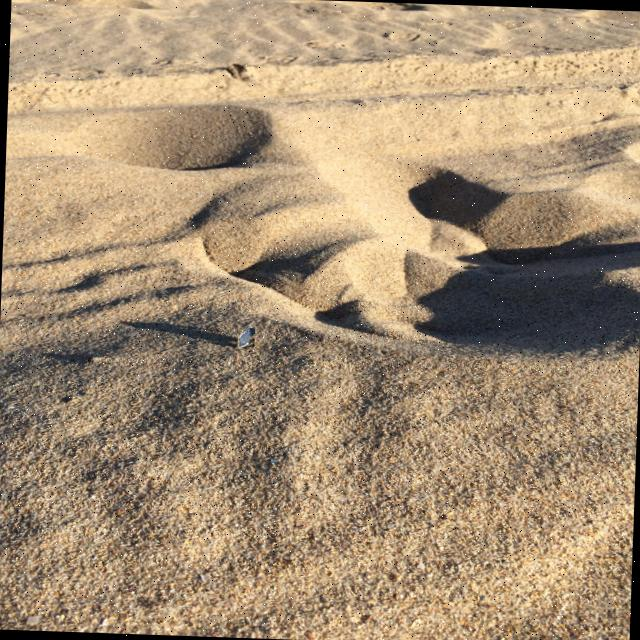Aluminium foil: (237, 327, 255, 347)
